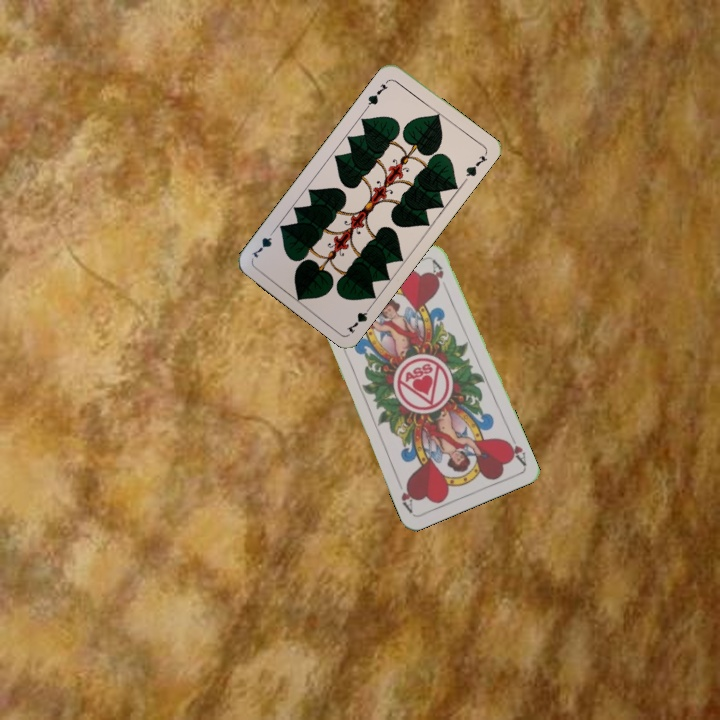G7: (343, 300, 375, 336), (363, 76, 392, 111)
HA: (502, 430, 529, 468)
